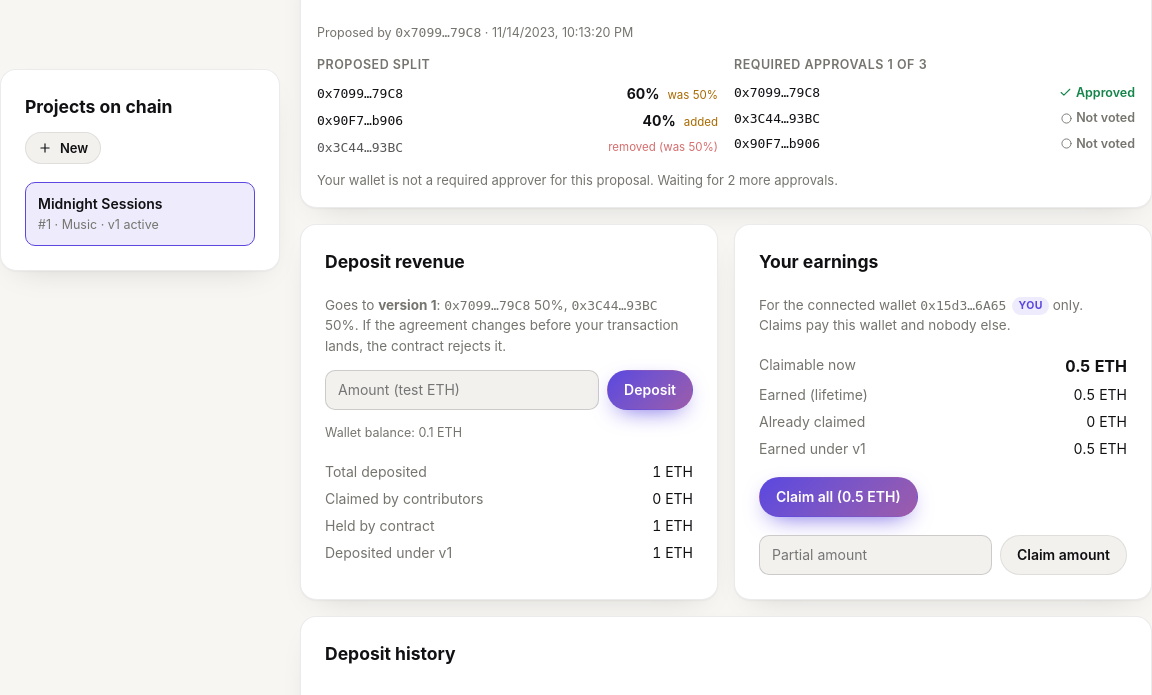
it: live dashboard: revenue › stops a deposit the wallet cannot afford before asking MetaMask
(page scrolled)
Type "1" into the field named "deposit amount" at (462, 390), box [325,370,599,410]
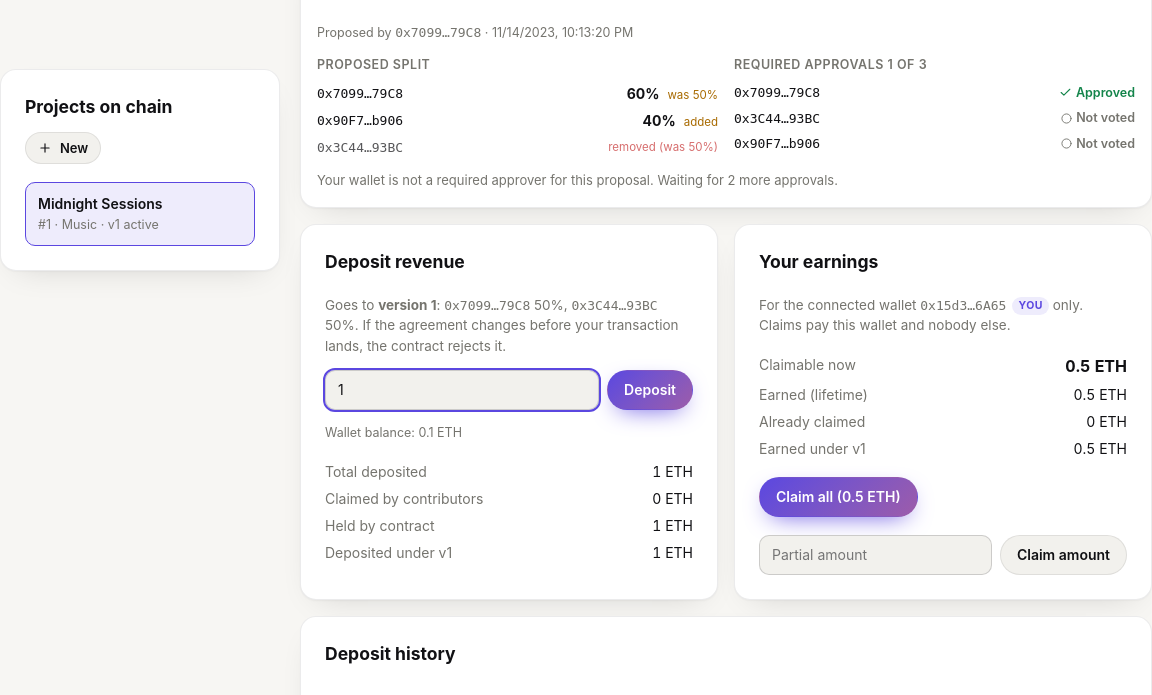
Click the button "Deposit" at (650, 390), box [607,370,693,410]
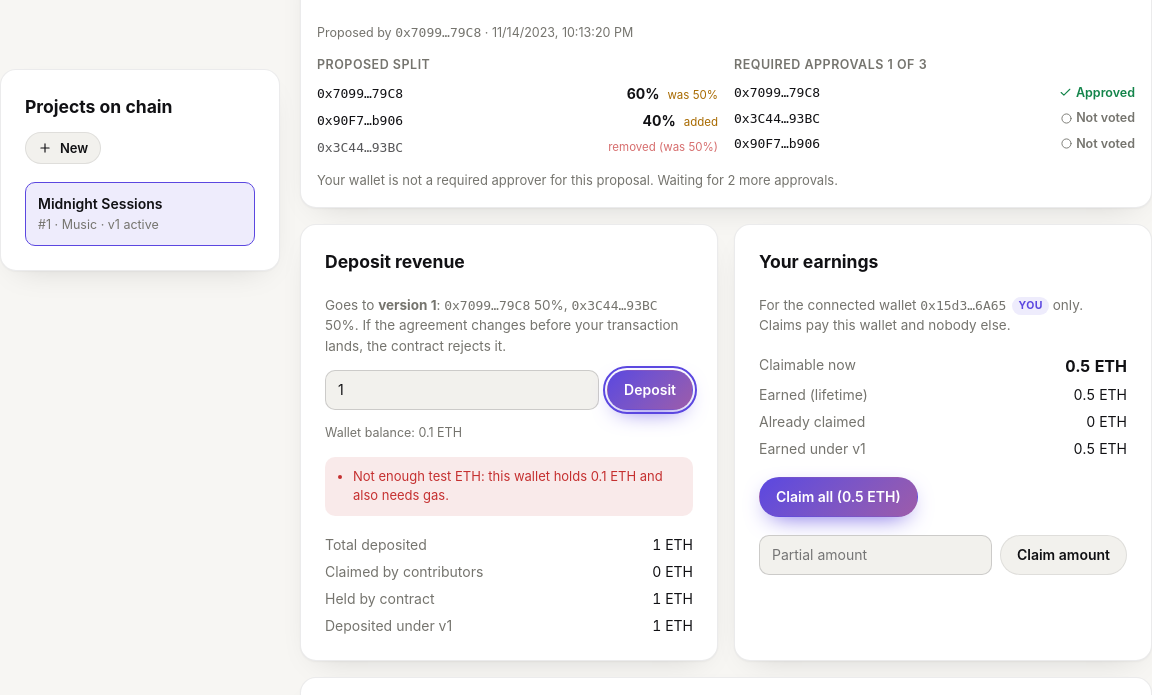
expect the list item "Not enough test ETH" is shown: met, box [353,468,663,503]
